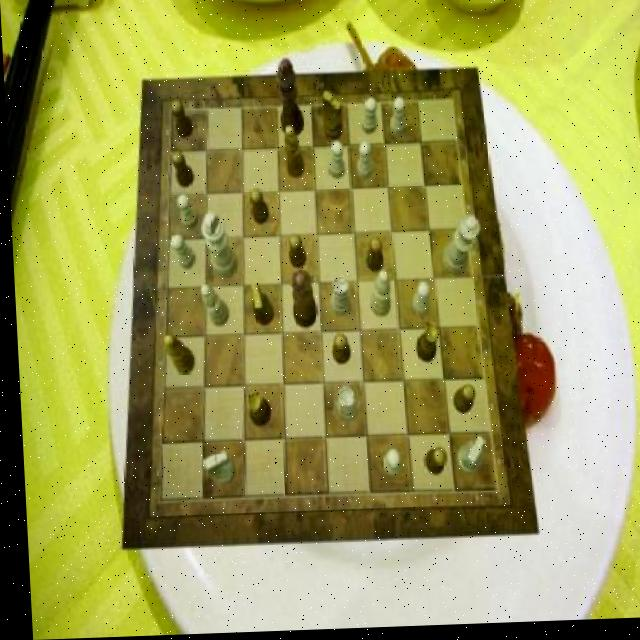bishop: (159, 335, 191, 378), (283, 127, 303, 181)
black-bishop: (274, 60, 303, 141)
black-king: (320, 93, 342, 143), (247, 285, 271, 328)
black-knight: (170, 101, 192, 140), (170, 153, 192, 190), (447, 388, 472, 418), (285, 236, 304, 271), (247, 191, 266, 226), (363, 238, 381, 273), (327, 335, 347, 366), (419, 451, 441, 479)
black-pawn: (287, 271, 314, 332)
black-queen: (411, 326, 437, 367), (242, 393, 267, 429)
black-rook: (197, 285, 226, 328), (366, 274, 389, 320)
white-bishop: (197, 212, 235, 281)
white-king: (450, 439, 481, 477), (200, 452, 231, 487)
white-knight: (168, 235, 193, 271), (174, 195, 196, 231), (387, 101, 405, 140), (353, 145, 371, 183), (325, 142, 343, 180), (408, 285, 427, 320), (359, 102, 377, 138), (378, 452, 397, 480)
white-pawn: (438, 217, 479, 279)
white-queen: (326, 278, 349, 320), (331, 389, 353, 425)
